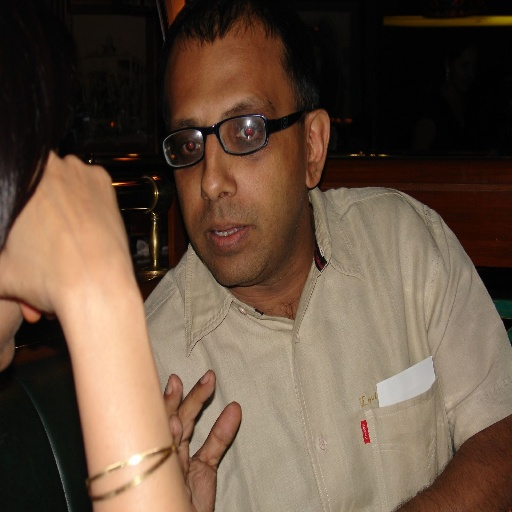hand: (0, 149, 137, 323), (161, 371, 242, 510)
